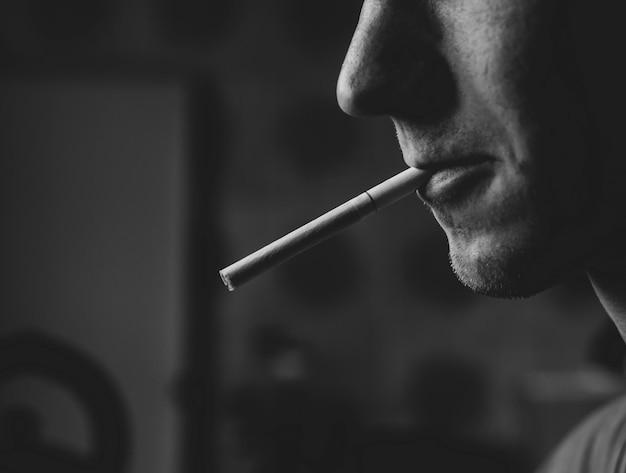cigarette: (219, 168, 427, 290)
